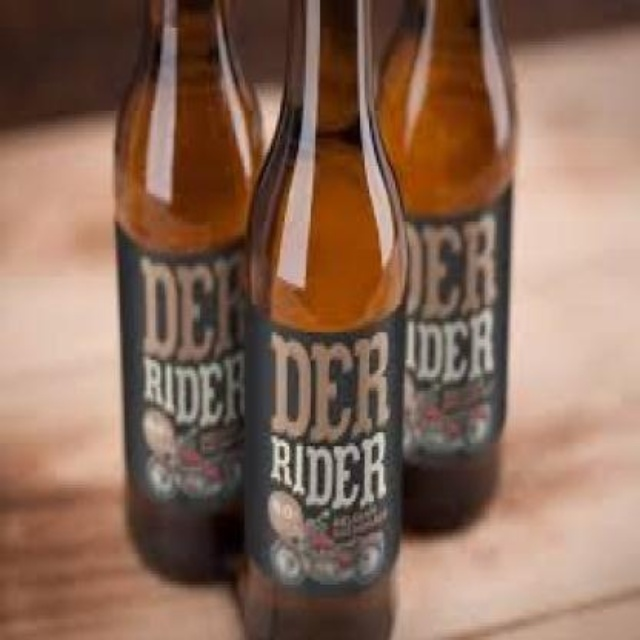trash: (243, 0, 405, 638), (117, 0, 260, 578), (369, 0, 512, 526)
